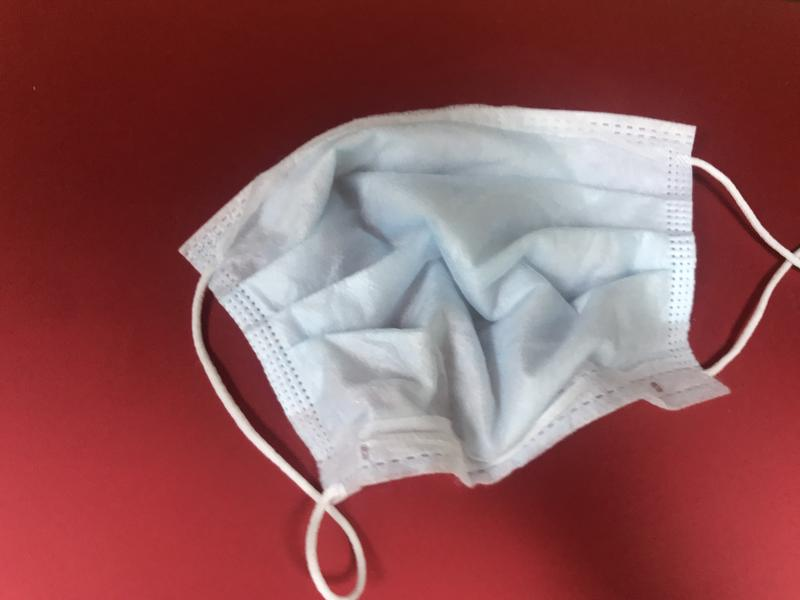medical_mask: (180, 102, 799, 600)
